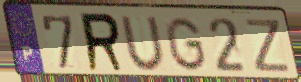2: (207, 16, 247, 74)
7: (39, 14, 75, 71)
G: (163, 16, 209, 73)
R: (78, 10, 127, 74)
U: (118, 15, 169, 73)
Z: (243, 17, 292, 74)
